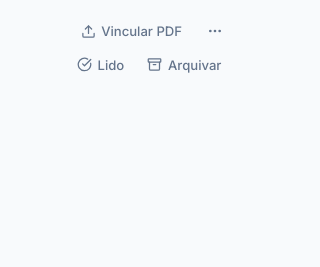
Test: ArticleRowActions menu › toggles closed when the "⋯" button is clicked again
Click the button named "Mais ações".
click(215, 31)  # box [199,15,231,47]
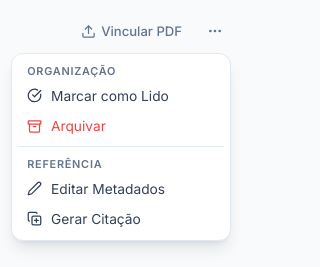
Click the button named "Mais ações".
click(215, 31)  # box [199,15,231,47]
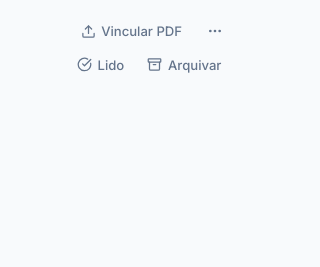
Now the menu is gone
